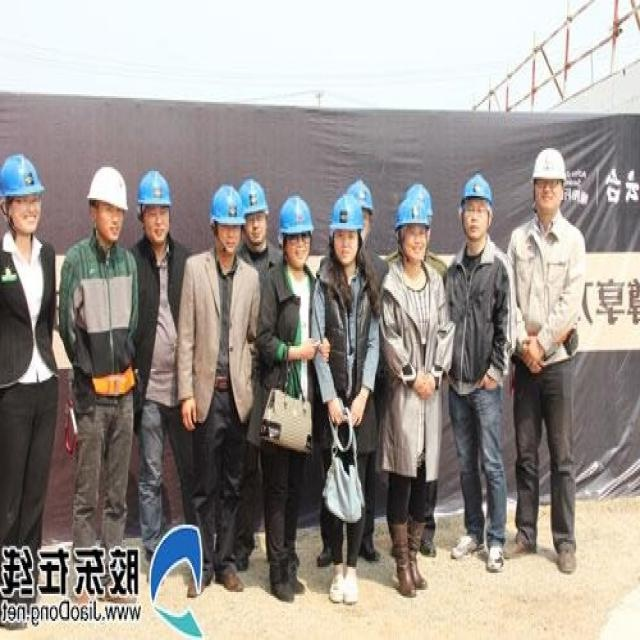Con_Casco: (89, 169, 129, 243), (532, 151, 564, 212)
Sin_Chaleco: (180, 257, 257, 422)
